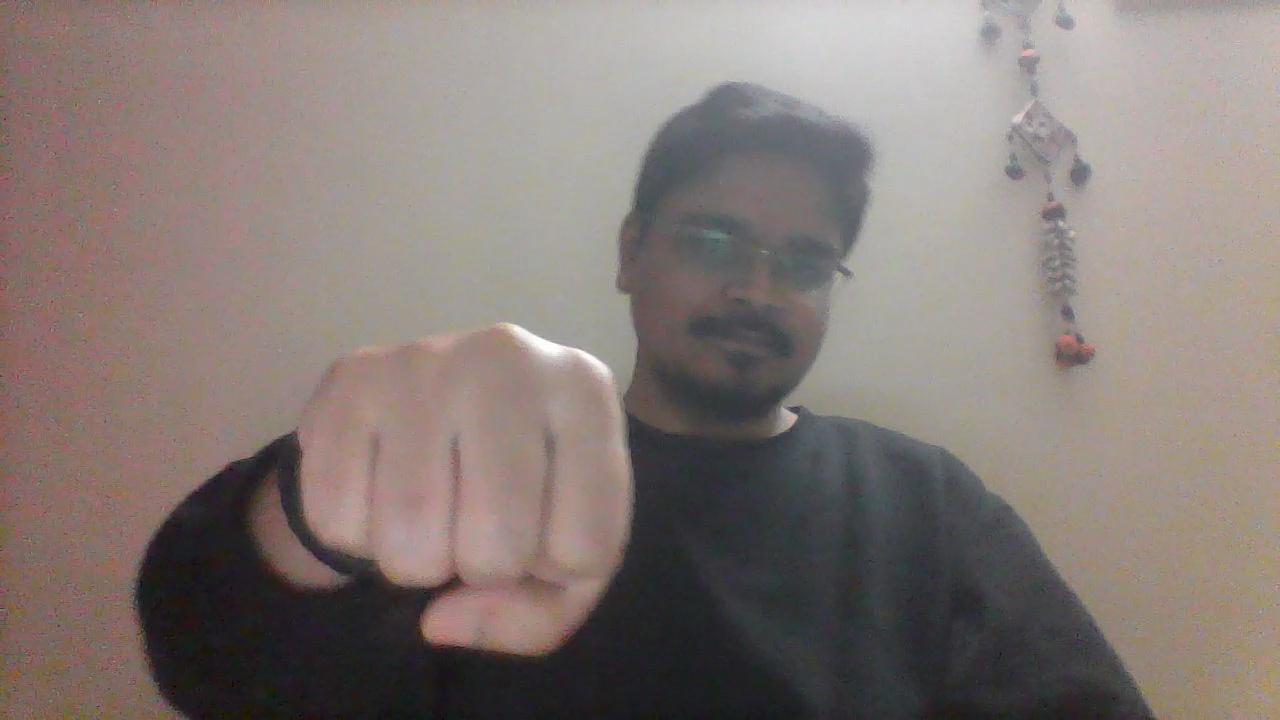Yes: (295, 321, 644, 663)
